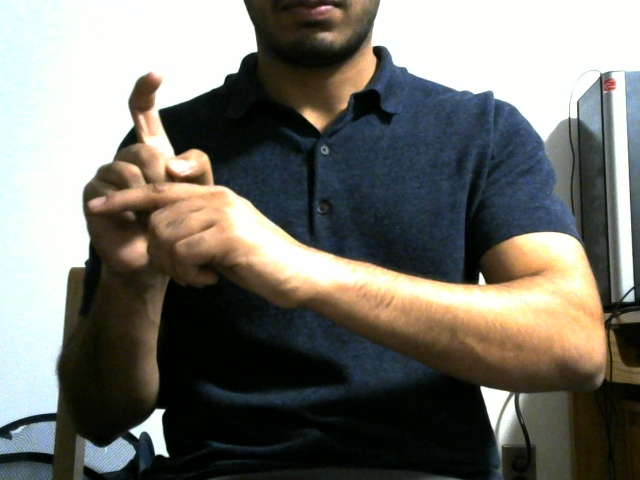call: (52, 63, 304, 320)
